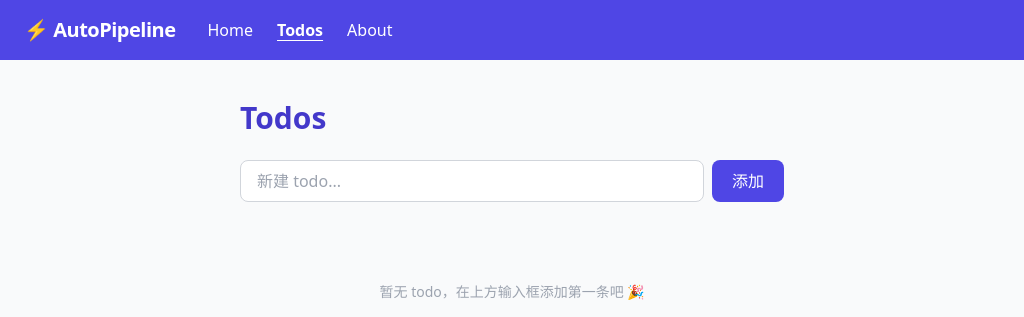
Test: Todos CRUD › 删除 todo 后列表清空
This screenshot has width=1024, height=317.
Type "Temp task" into the field with test id "todo-input". click: {"x": 472, "y": 181}
box: 240,160 -> 704,202
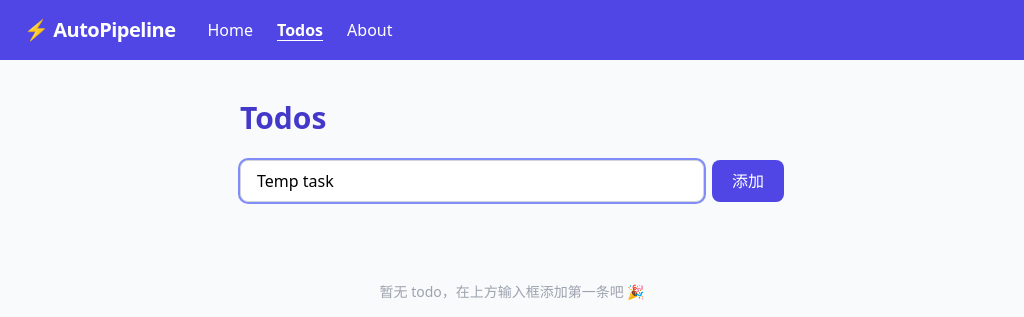
Click the button with test id "todo-submit". click: {"x": 748, "y": 181}
box: 712,160 -> 784,202
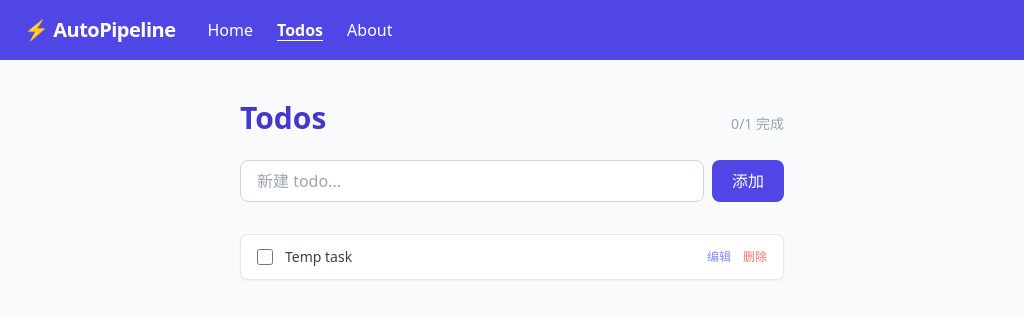
Check: the number of list items with test id "todo-item" is 1, box 240,234 -> 784,280
Click the button with test id "todo-delete". click: {"x": 755, "y": 257}
box: 743,249 -> 767,265
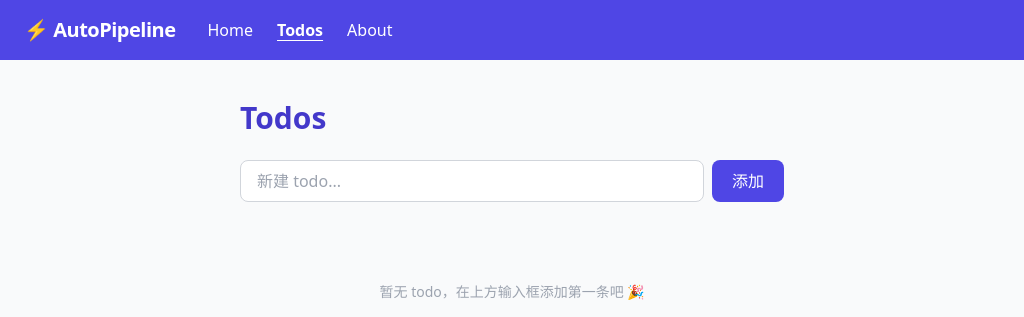
Check: the list item with test id "todo-item" is gone
